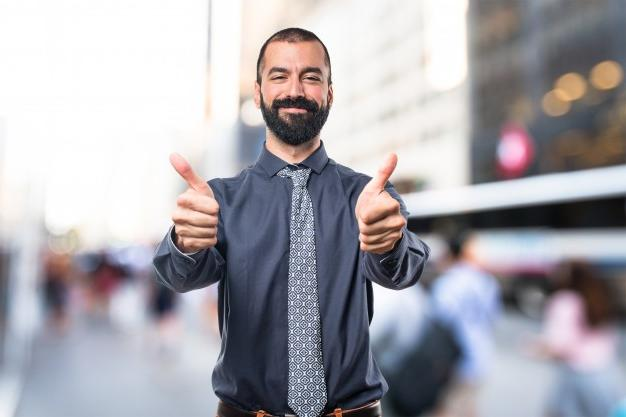thumbsup: (168, 152, 219, 248), (359, 151, 406, 254)
